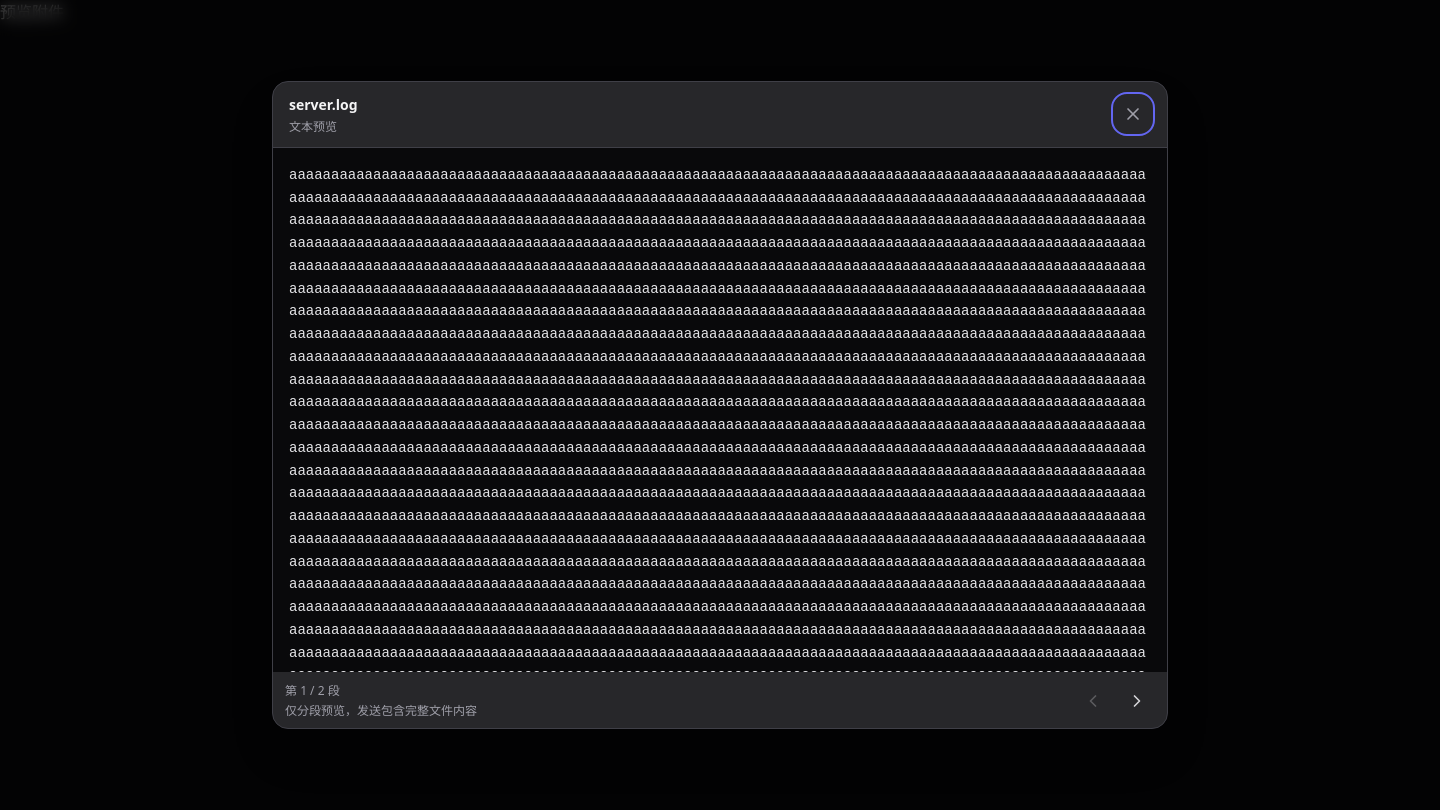
Test: AttachmentPreview › 分段边界不拆开 emoji，空文件保留明确说明
The width and height of the screenshot is (1440, 810).
Click the button named "下一段" at [1137, 700], box [1119,682,1155,718]
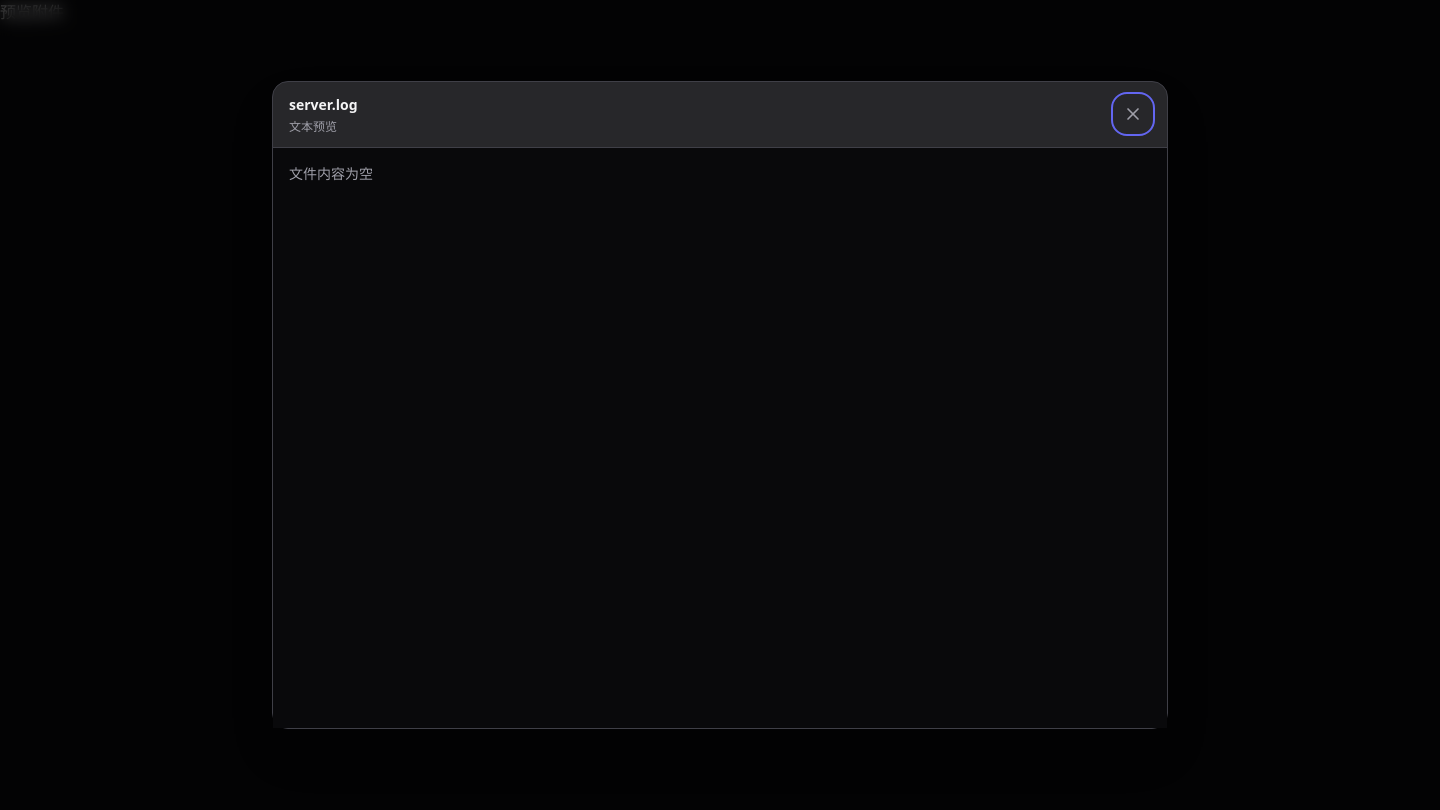
Expected: the text "文件内容为空" is shown, [289,164,373,183]
